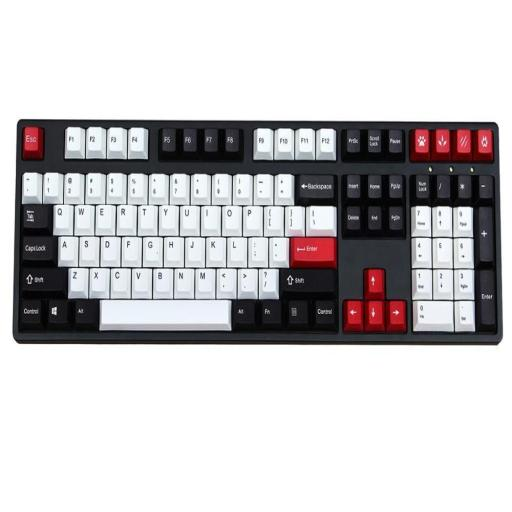KEYBOARD-2: (12, 120, 502, 344)
